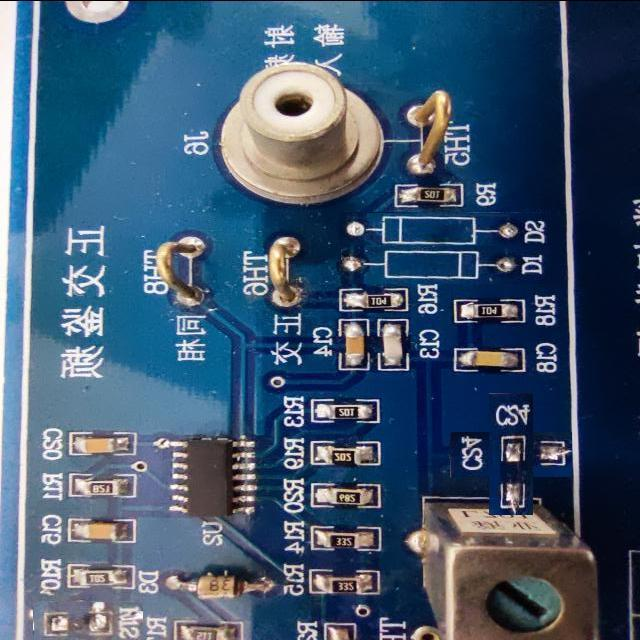miss_welding: (342, 246, 556, 284), (469, 413, 553, 496), (340, 212, 551, 245), (34, 601, 144, 640)
